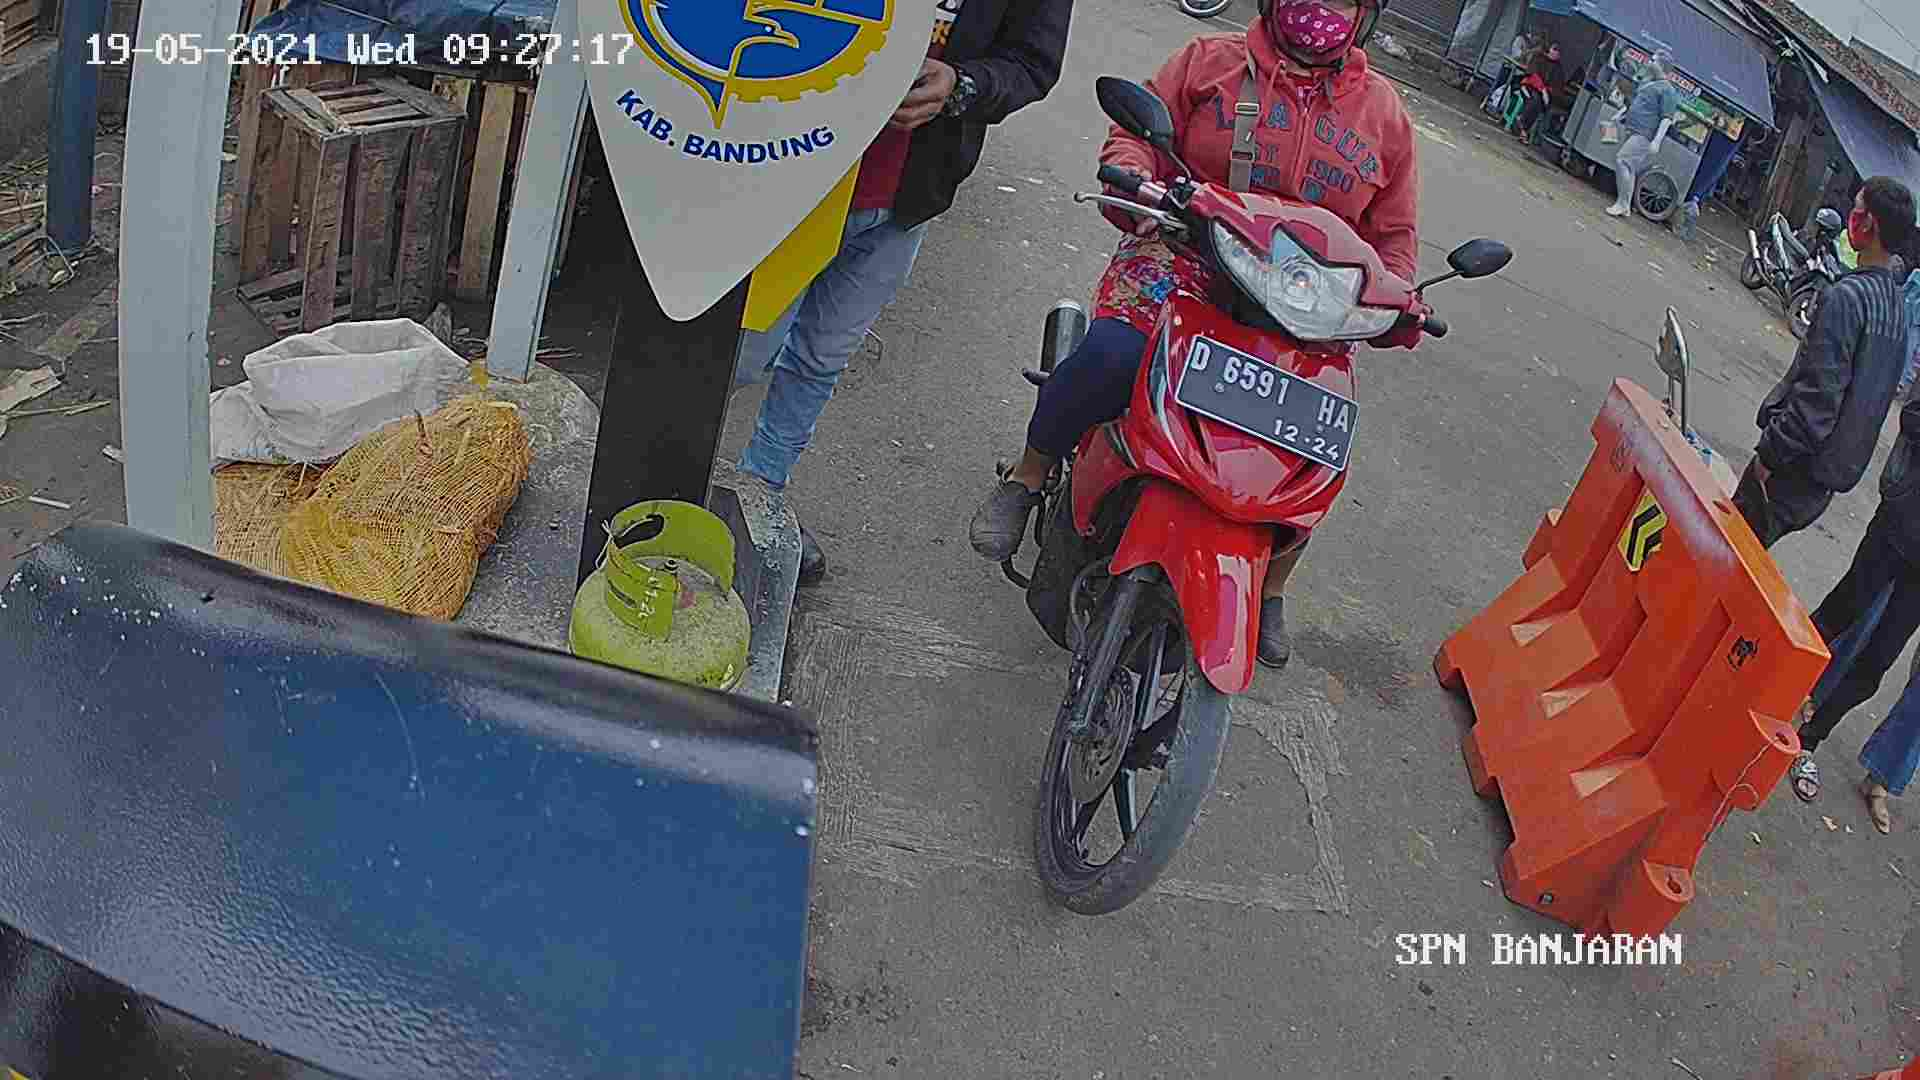motor: (1030, 169, 1360, 949)
